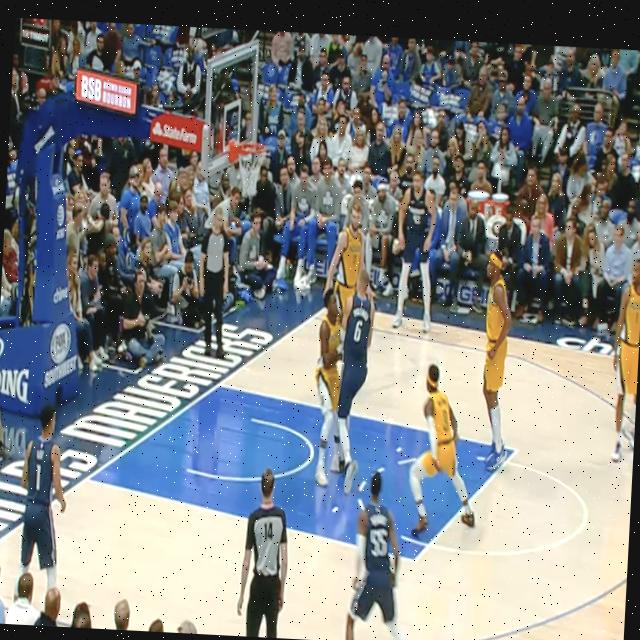foul: (288, 268, 374, 497)
